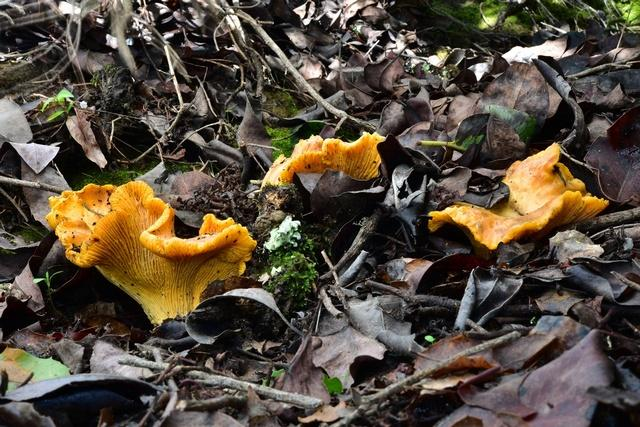edible_mushroom: (50, 179, 257, 326), (429, 146, 602, 253), (260, 126, 387, 199)
